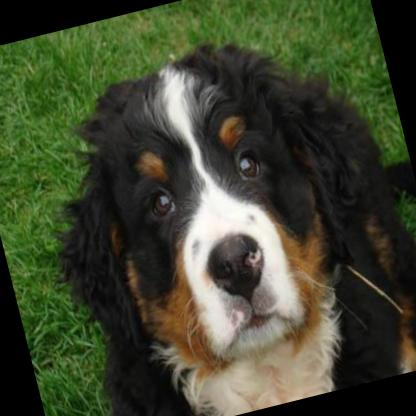Bernese_mountain_dog: (12, 3, 416, 416)
